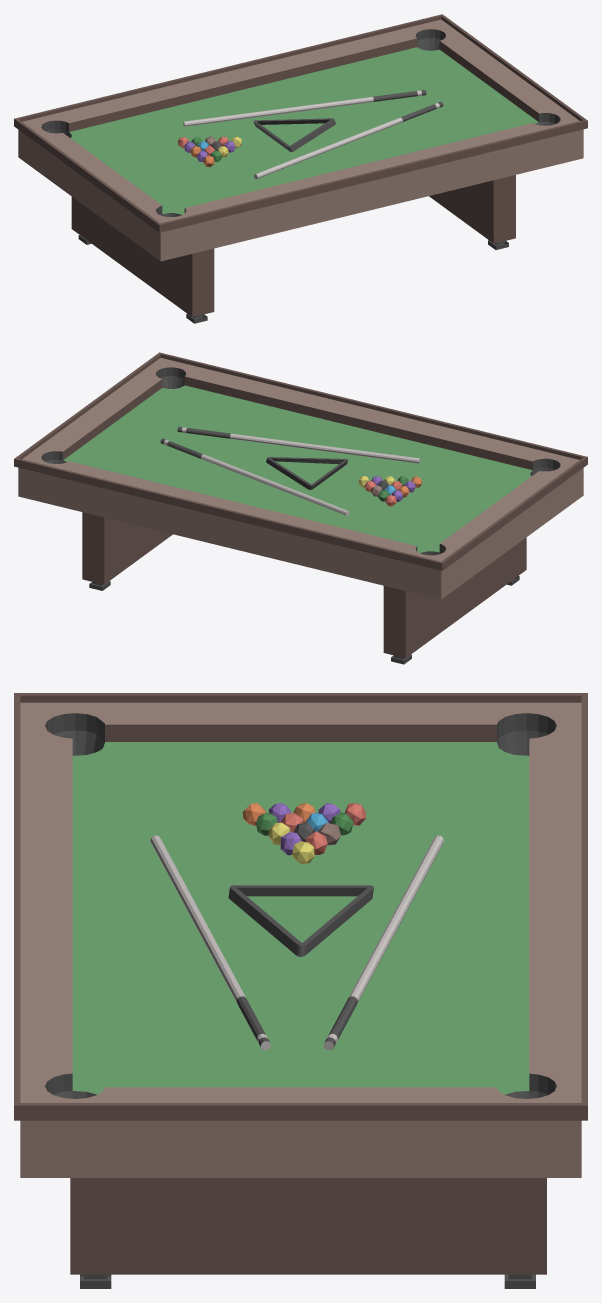
The model's file is Billiards.glb.
3 renders of one model, top to bottom at view 1: azimuth 30°, elevation 25°; view 2: azimuth 150°, elevation 25°; view 3: azimuth 270°, elevation 25°, orthographic. The views are drawn at different scales.
Visible parts, largest first — view 1: New_Game_Object_mat0_0.045; view 2: New_Game_Object_mat0_0.045; view 3: New_Game_Object_mat0_0.045.
Part boxes in pixels (x1,y1,x2,y2): New_Game_Object_mat0_0.045: (14, 14, 587, 323); New_Game_Object_mat0_0.045: (14, 352, 587, 664); New_Game_Object_mat0_0.045: (14, 693, 587, 1288).
Bounding box in the file's own units: 1.99 × 0.5464 × 1.17.
